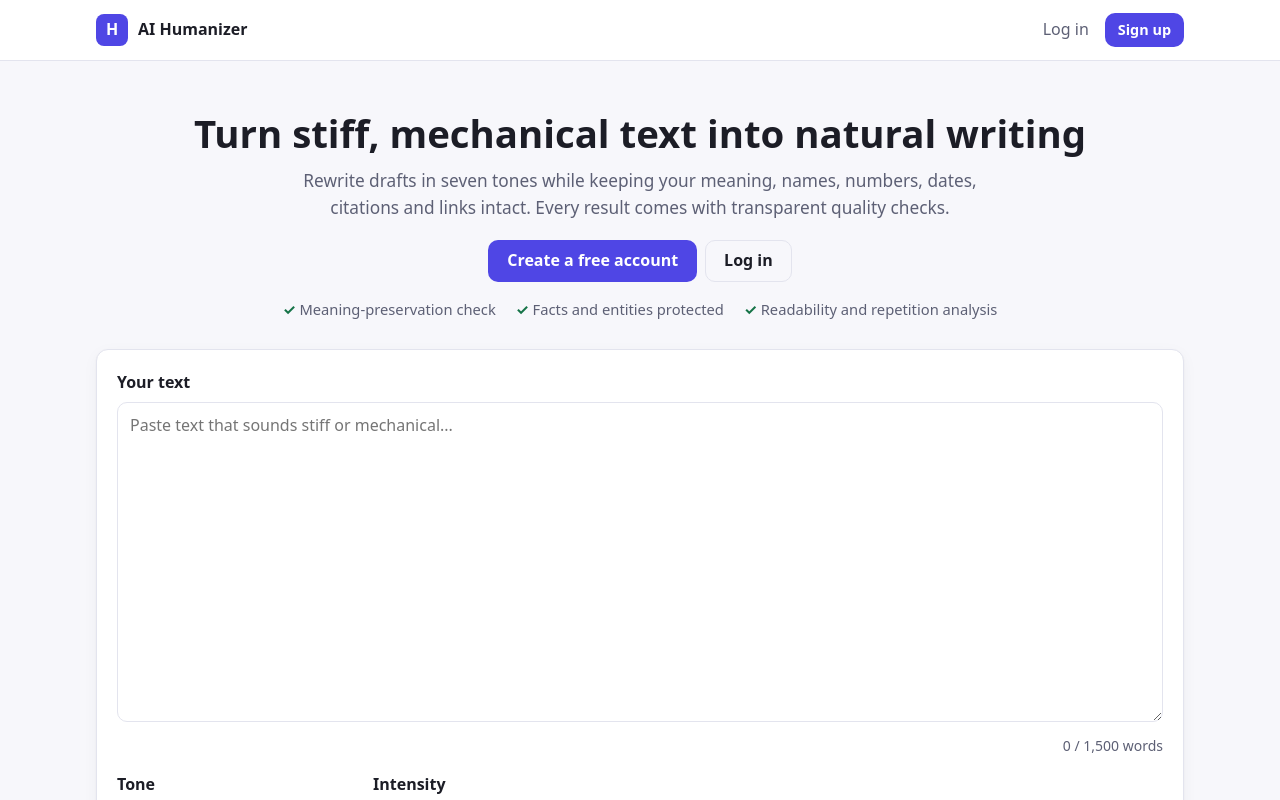
App › updates the live word count
Type "one two three" into the text box labelled "Your text" at (640, 562), box left=117, top=402, right=1163, bottom=722
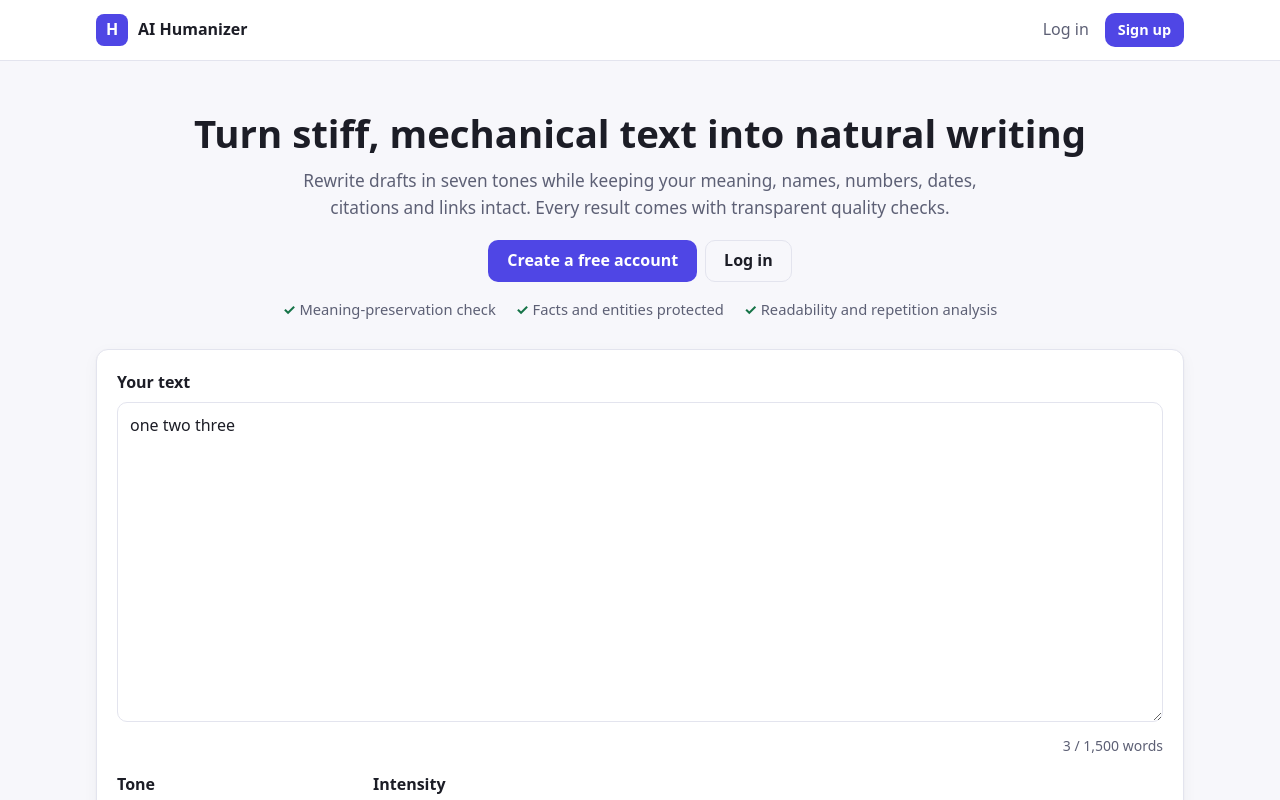
Expected: the text "3 / 1,500 words" is shown, left=1063, top=735, right=1163, bottom=758
